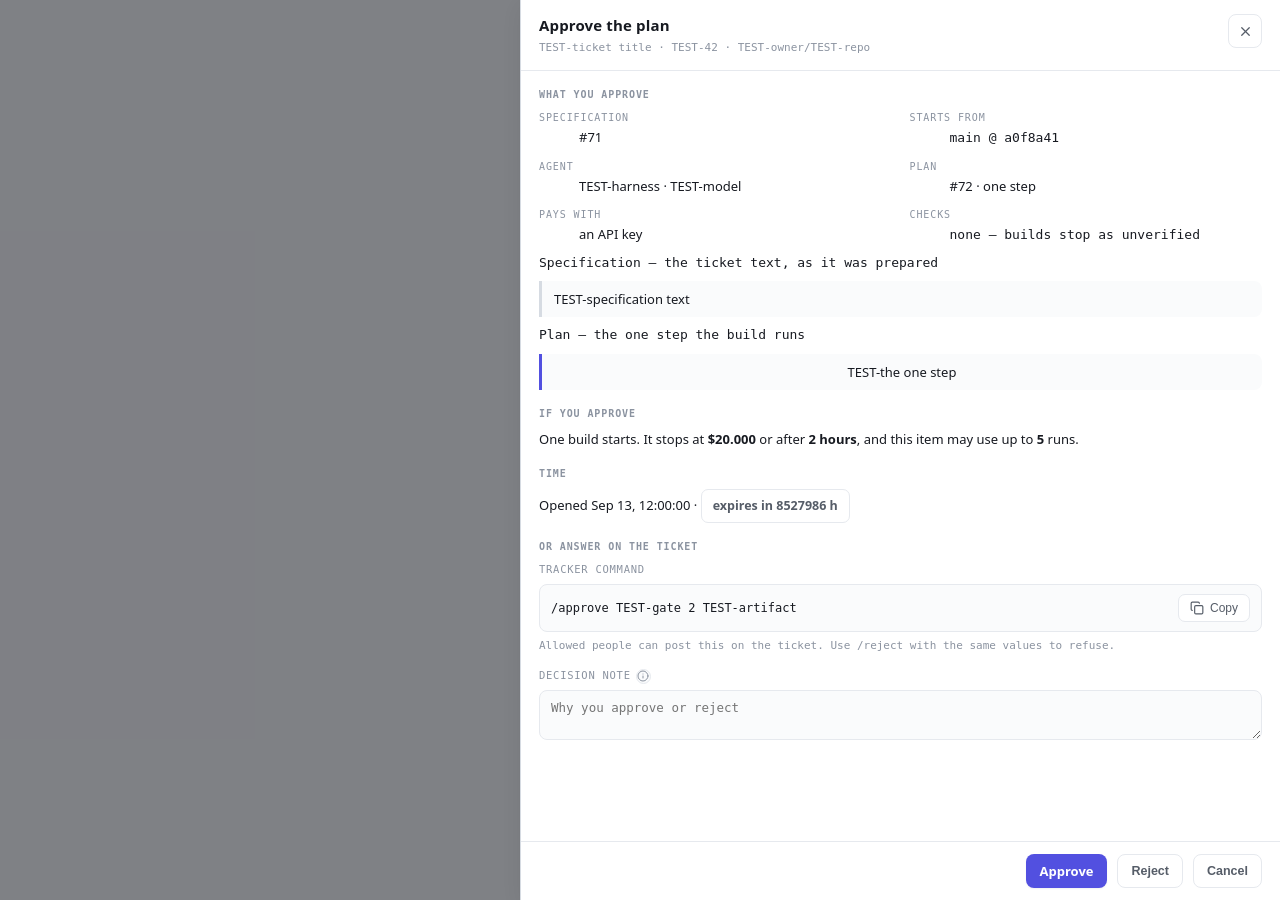
Test: keeps the decision open after a failed answer
Click the button "Approve".
click(1066, 871)  # box [1026,854,1107,888]
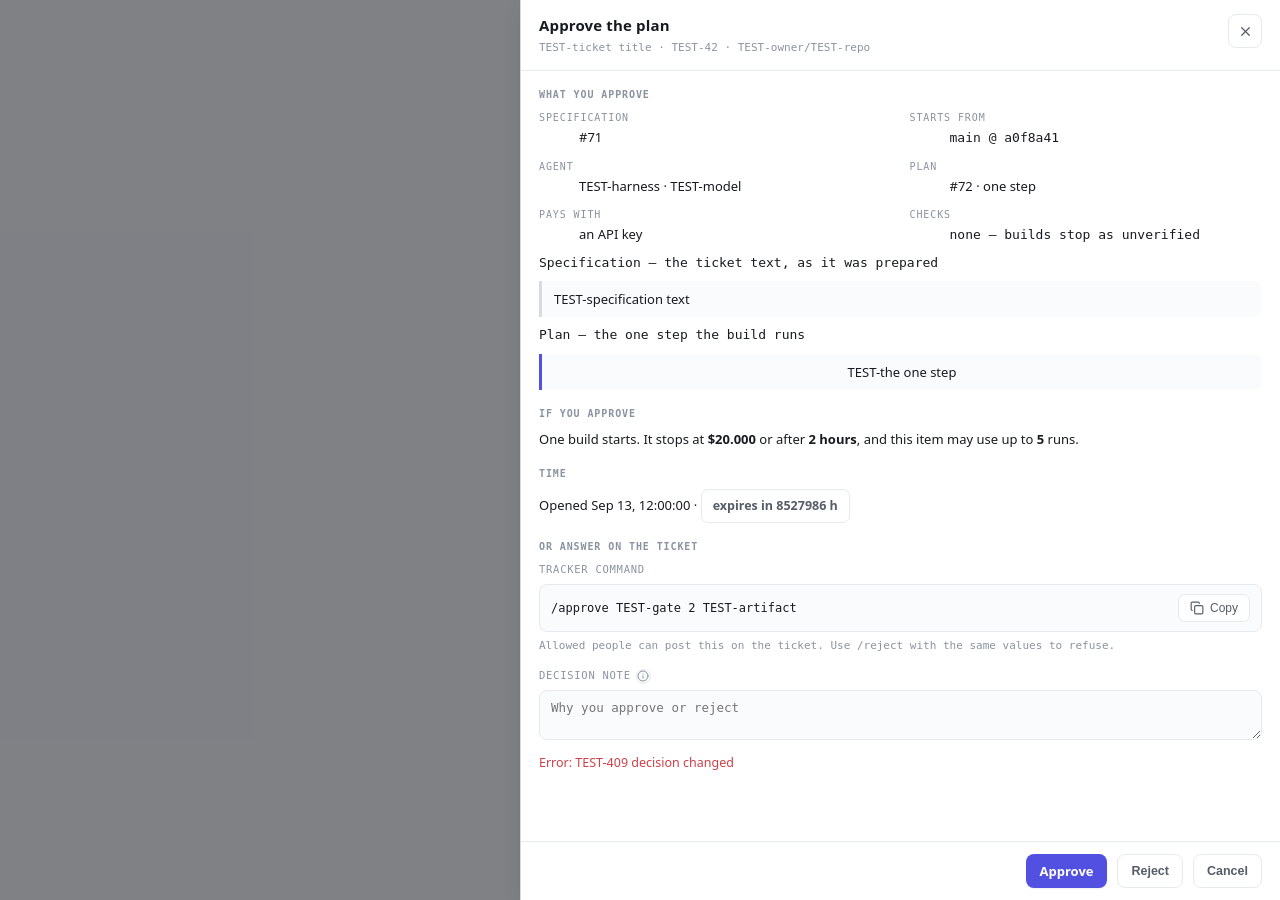
Result: the message shows "TEST-409 decision changed" at [539,754,734,771]
